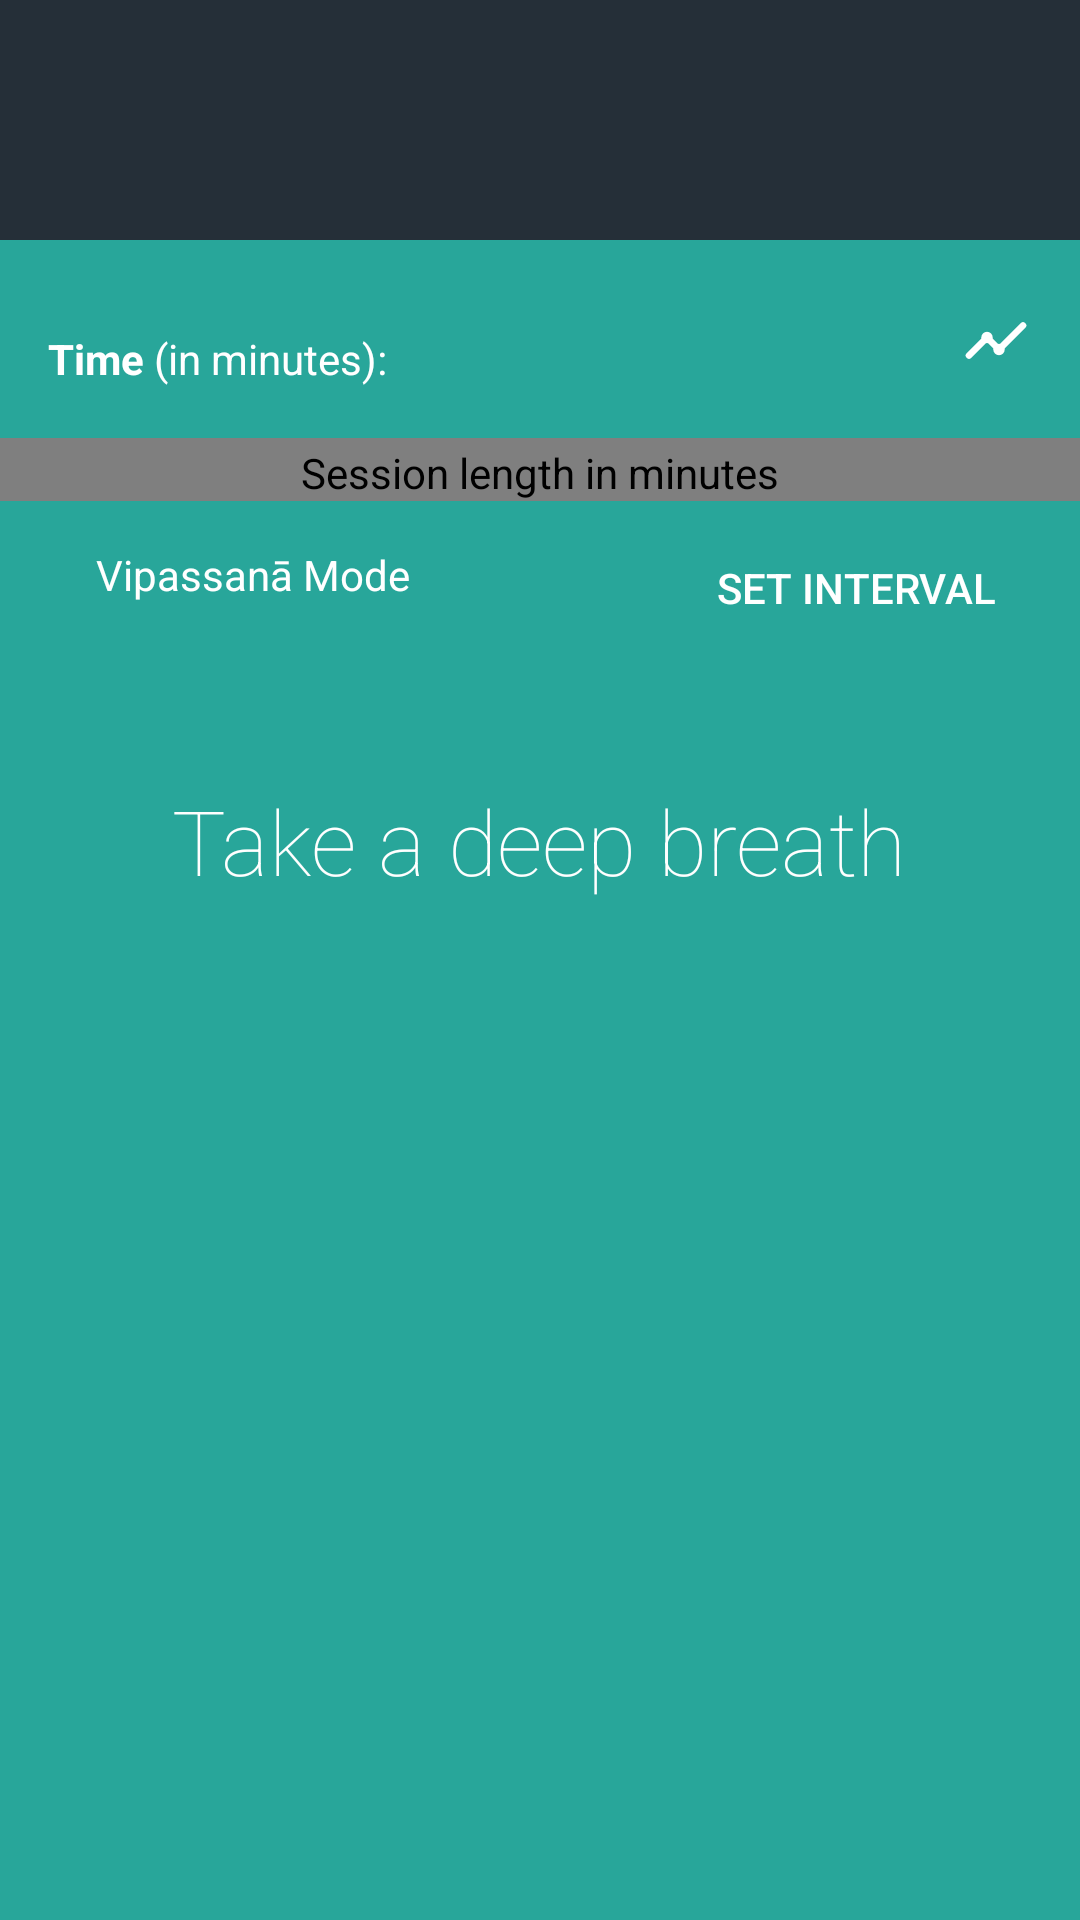

Where icons sit on this 1080w x 1920h app screen, as (x1, y1, x2, y2):
Stats and stages: (965, 322, 1027, 359)
